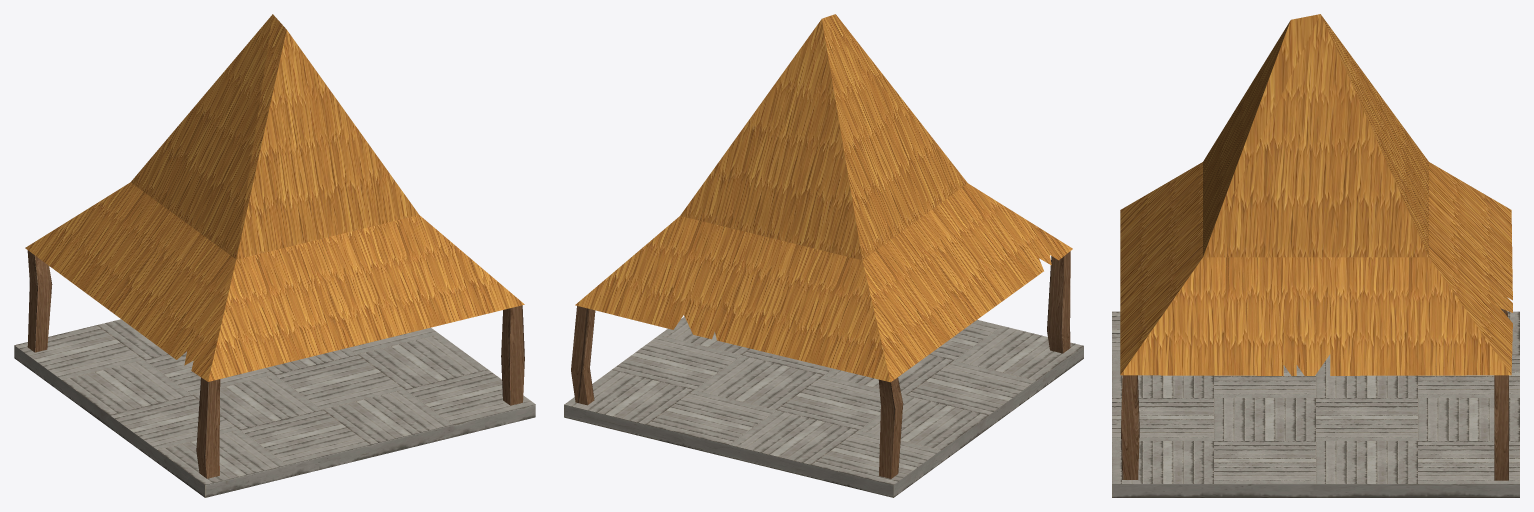
The picture shows the model from 3 angles, left to right: view 1: azimuth 30°, elevation 25°; view 2: azimuth 150°, elevation 25°; view 3: azimuth 270°, elevation 25°; orthographic projection. The views are drawn at different scales.
Visible parts, largest first — view 1: defaultMaterial.031; view 2: defaultMaterial.031; view 3: defaultMaterial.031.
Boxes of the visible parts, x1=… form: defaultMaterial.031: x1=14, y1=14, x2=535, y2=497; defaultMaterial.031: x1=564, y1=14, x2=1083, y2=497; defaultMaterial.031: x1=1112, y1=14, x2=1519, y2=497.
Size of the model in its own units: 584 by 628 by 584.
Materials: 1 (1 with a texture image).
